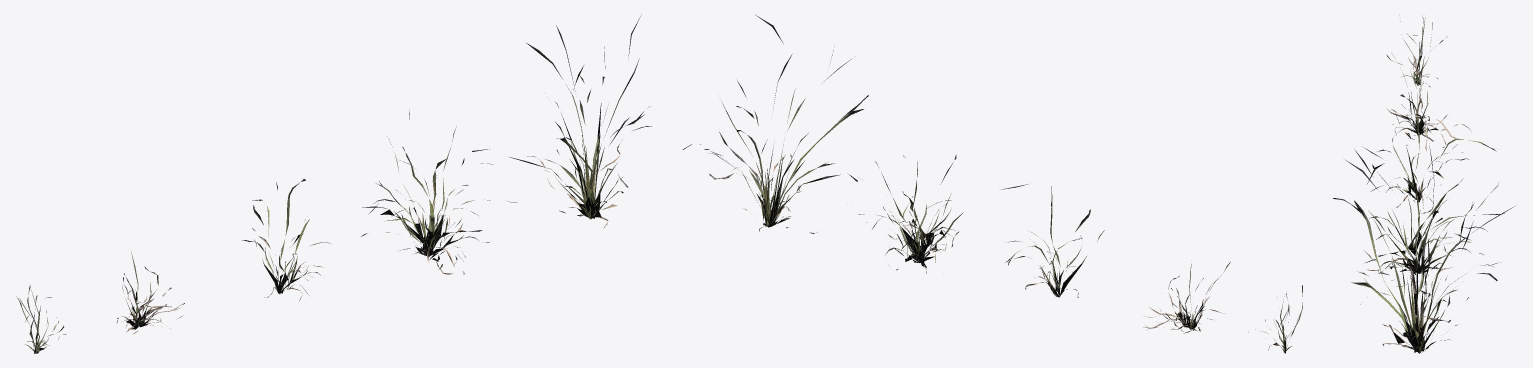
Rendered from grass_medium_02_lod1.glb.
3 renders of one model, left to right at view 1: azimuth 30°, elevation 25°; view 2: azimuth 150°, elevation 25°; view 3: azimuth 270°, elevation 25°, orthographic. The views are drawn at different scales.
Parts seen in each view (by area): view 1: grass_medium_02_e, grass_medium_02_d, grass_medium_02_c, grass_medium_02_b, grass_medium_02_a; view 2: grass_medium_02_e, grass_medium_02_d, grass_medium_02_c, grass_medium_02_b; view 3: grass_medium_02_e, grass_medium_02_d, grass_medium_02_b, grass_medium_02_c, grass_medium_02_a.
Boxes of the visible parts, x1,y1,x2,y2 form: grass_medium_02_e: (472, 14, 651, 228); grass_medium_02_d: (361, 109, 493, 274); grass_medium_02_c: (242, 179, 330, 300); grass_medium_02_b: (116, 251, 184, 334); grass_medium_02_a: (16, 285, 66, 353); grass_medium_02_e: (682, 15, 868, 233); grass_medium_02_d: (858, 155, 1028, 273); grass_medium_02_c: (1005, 186, 1104, 297); grass_medium_02_b: (1143, 262, 1230, 333); grass_medium_02_e: (1333, 145, 1514, 353); grass_medium_02_d: (1358, 144, 1504, 286); grass_medium_02_b: (1386, 54, 1471, 150); grass_medium_02_c: (1370, 92, 1496, 213); grass_medium_02_a: (1386, 17, 1447, 87).
Bounding box in the file's own units: 1.25 × 0.4029 × 0.3279.
Materials: 1 (1 with a texture image).
